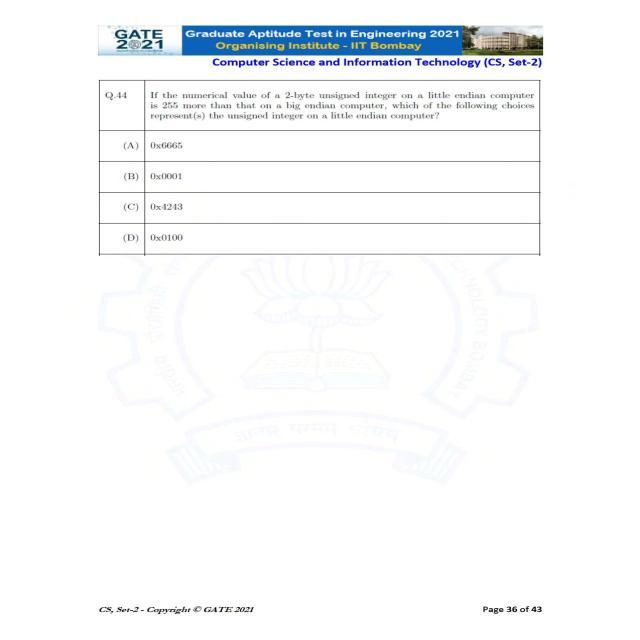Answer_Block: (68, 131, 588, 293)
Question_Answer_Block: (68, 75, 588, 292)
Question_Block: (68, 74, 588, 132)
Question_Paper_Area: (68, 75, 588, 292)
